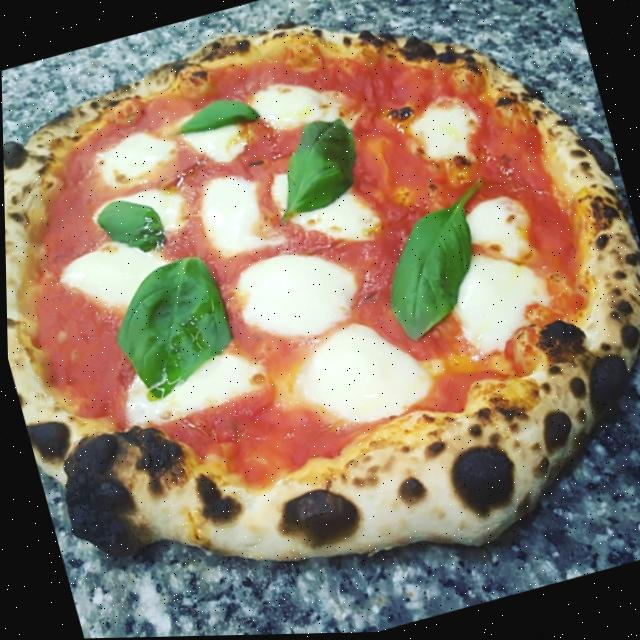basil: (94, 246, 247, 404), (365, 188, 514, 346), (255, 111, 370, 225), (92, 191, 169, 265), (170, 85, 263, 144)
pizza: (0, 0, 640, 640)
